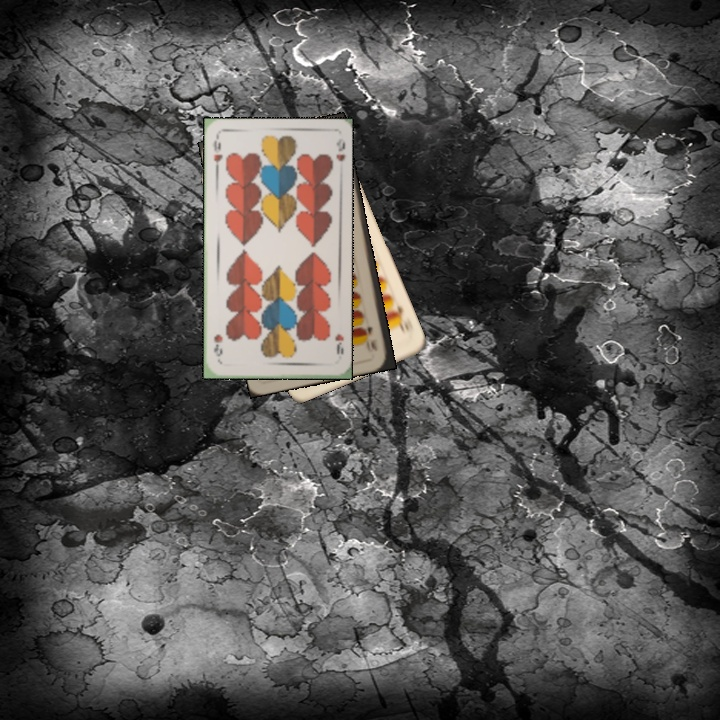E10: (388, 302, 410, 335), (363, 323, 380, 354)
H9: (209, 133, 225, 173), (331, 330, 346, 356)
